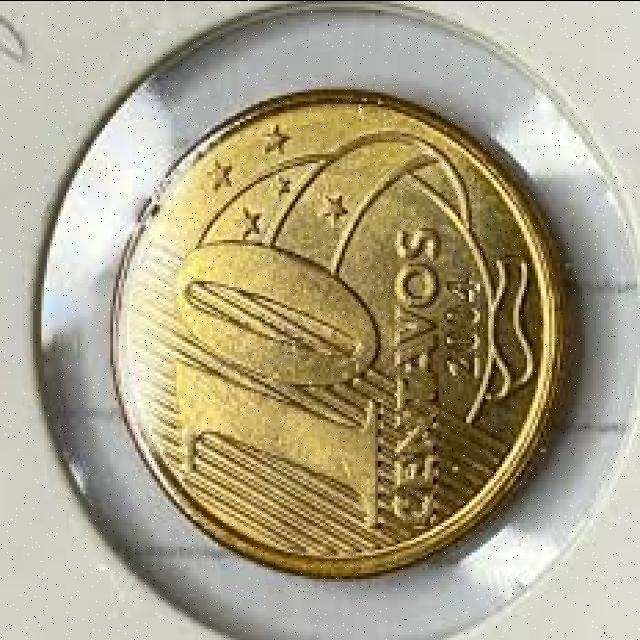10 cent: (112, 101, 561, 573)
